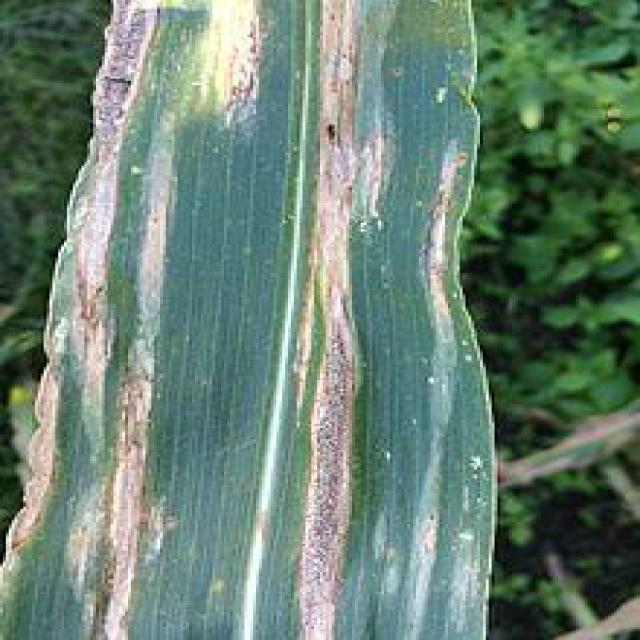blight: (276, 37, 416, 640)
